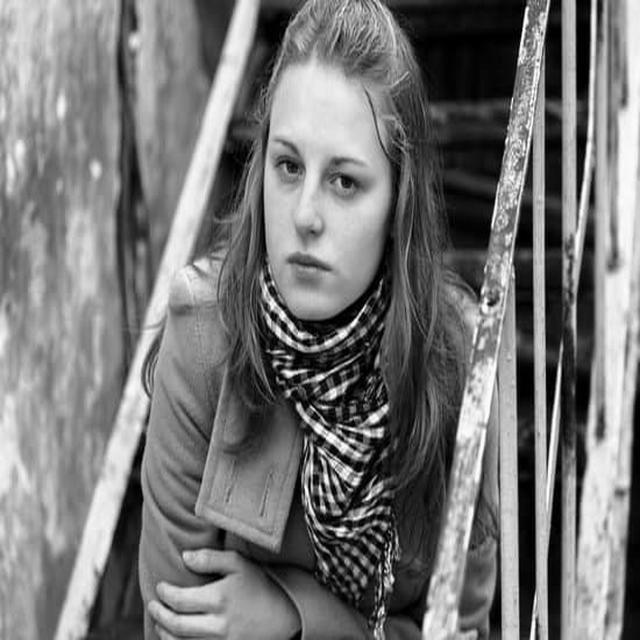Sadness: (265, 66, 392, 320)
